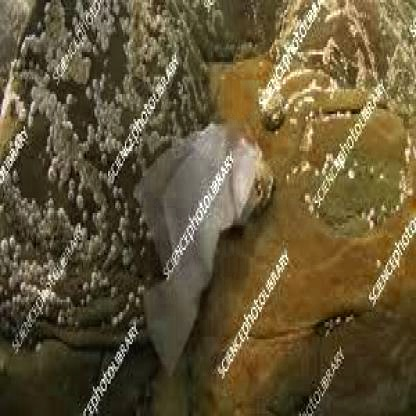pbag: (134, 116, 260, 379)
